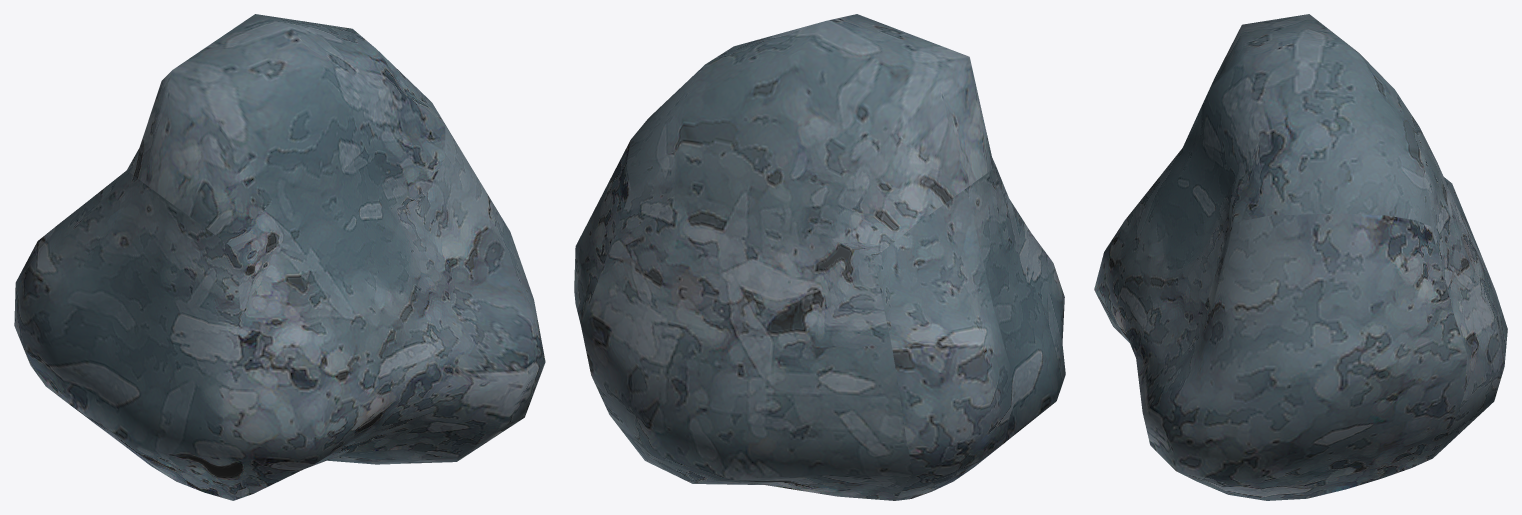
File: rock49.fbx
3 renders of one model, left to right at view 1: azimuth 30°, elevation 25°; view 2: azimuth 150°, elevation 25°; view 3: azimuth 270°, elevation 25°, orthographic. The views are drawn at different scales.
Visible parts, largest first — view 1: pCube47; view 2: pCube47; view 3: pCube47.
Boxes of the visible parts, x1,y1,x2,y2 form: pCube47: (14,14,545,500); pCube47: (574,14,1065,500); pCube47: (1094,14,1507,500).
Bounding box in the file's own units: 5.89 × 5.76 × 5.37.
